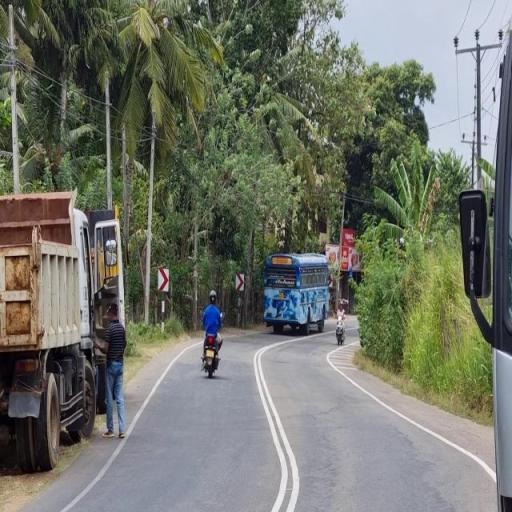double_white_line: (254, 342, 296, 511)
